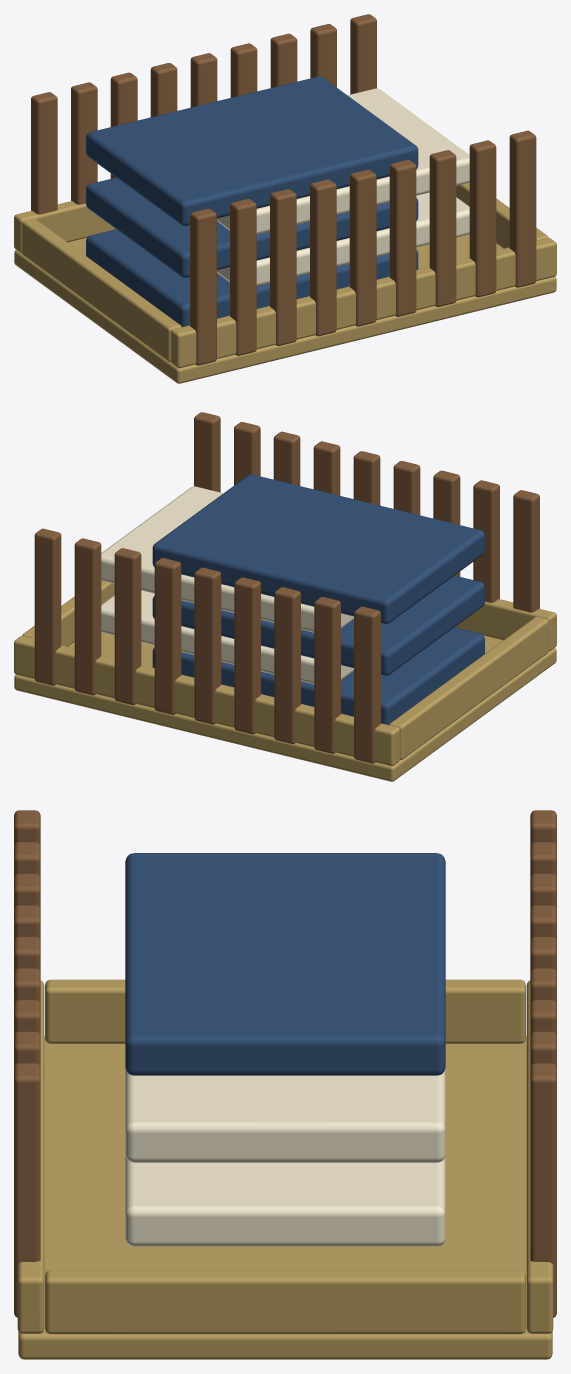
Rendered from fantasy-cartographers-map-printing-guild-wiping-cloth--e0e63559__32254.glb.
3 views of the same model, one above another, from view 1: azimuth 30°, elevation 25°; view 2: azimuth 150°, elevation 25°; view 3: azimuth 270°, elevation 25° (orthographic). The views are drawn at different scales.
Parts seen in each view (by area): view 1: wiping-cloth-basket; view 2: wiping-cloth-basket; view 3: wiping-cloth-basket.
Part boxes in pixels (<box>): wiping-cloth-basket: <box>14,14,556,383</box>; wiping-cloth-basket: <box>14,412,556,781</box>; wiping-cloth-basket: <box>14,810,556,1359</box>.
Size of the model in its own units: 0.401 by 0.165 by 0.305.
